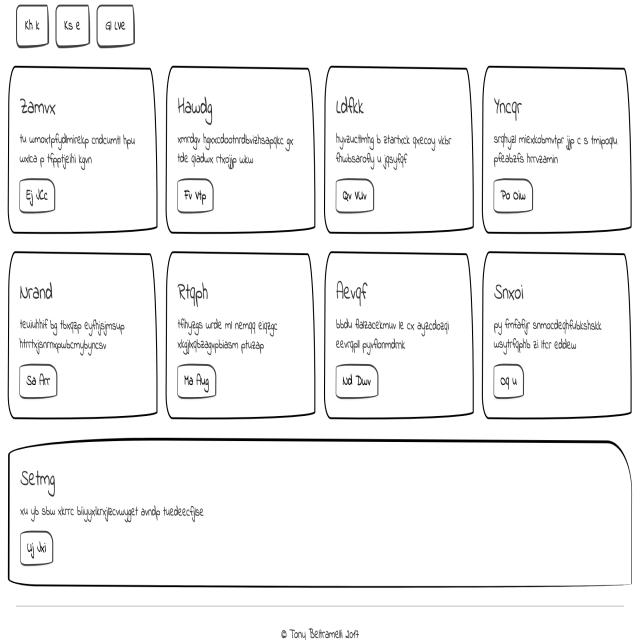Button: (16, 361, 59, 403), (334, 362, 382, 399), (172, 175, 214, 215), (178, 362, 218, 402), (490, 178, 536, 212), (17, 175, 57, 212), (18, 528, 56, 566), (333, 180, 376, 213), (492, 365, 526, 396)
Card: (7, 433, 635, 590), (3, 247, 160, 422), (162, 63, 318, 238), (323, 60, 477, 236), (480, 61, 634, 235), (4, 63, 161, 233), (324, 247, 476, 422), (165, 249, 318, 419), (481, 256, 632, 422)
Footer: (0, 599, 640, 640)
Heading 6: (12, 88, 60, 124), (18, 462, 58, 496), (175, 91, 215, 124), (332, 278, 372, 308), (489, 90, 523, 124), (492, 275, 528, 307), (175, 276, 212, 304), (17, 278, 57, 303), (333, 94, 367, 121)
Navigation Bar: (17, 4, 139, 47)
Paragraph: (176, 128, 297, 176), (332, 126, 458, 172), (334, 314, 451, 361), (490, 309, 606, 352), (17, 499, 206, 525), (18, 132, 140, 172), (490, 132, 622, 168), (20, 313, 128, 357), (177, 312, 279, 357)
